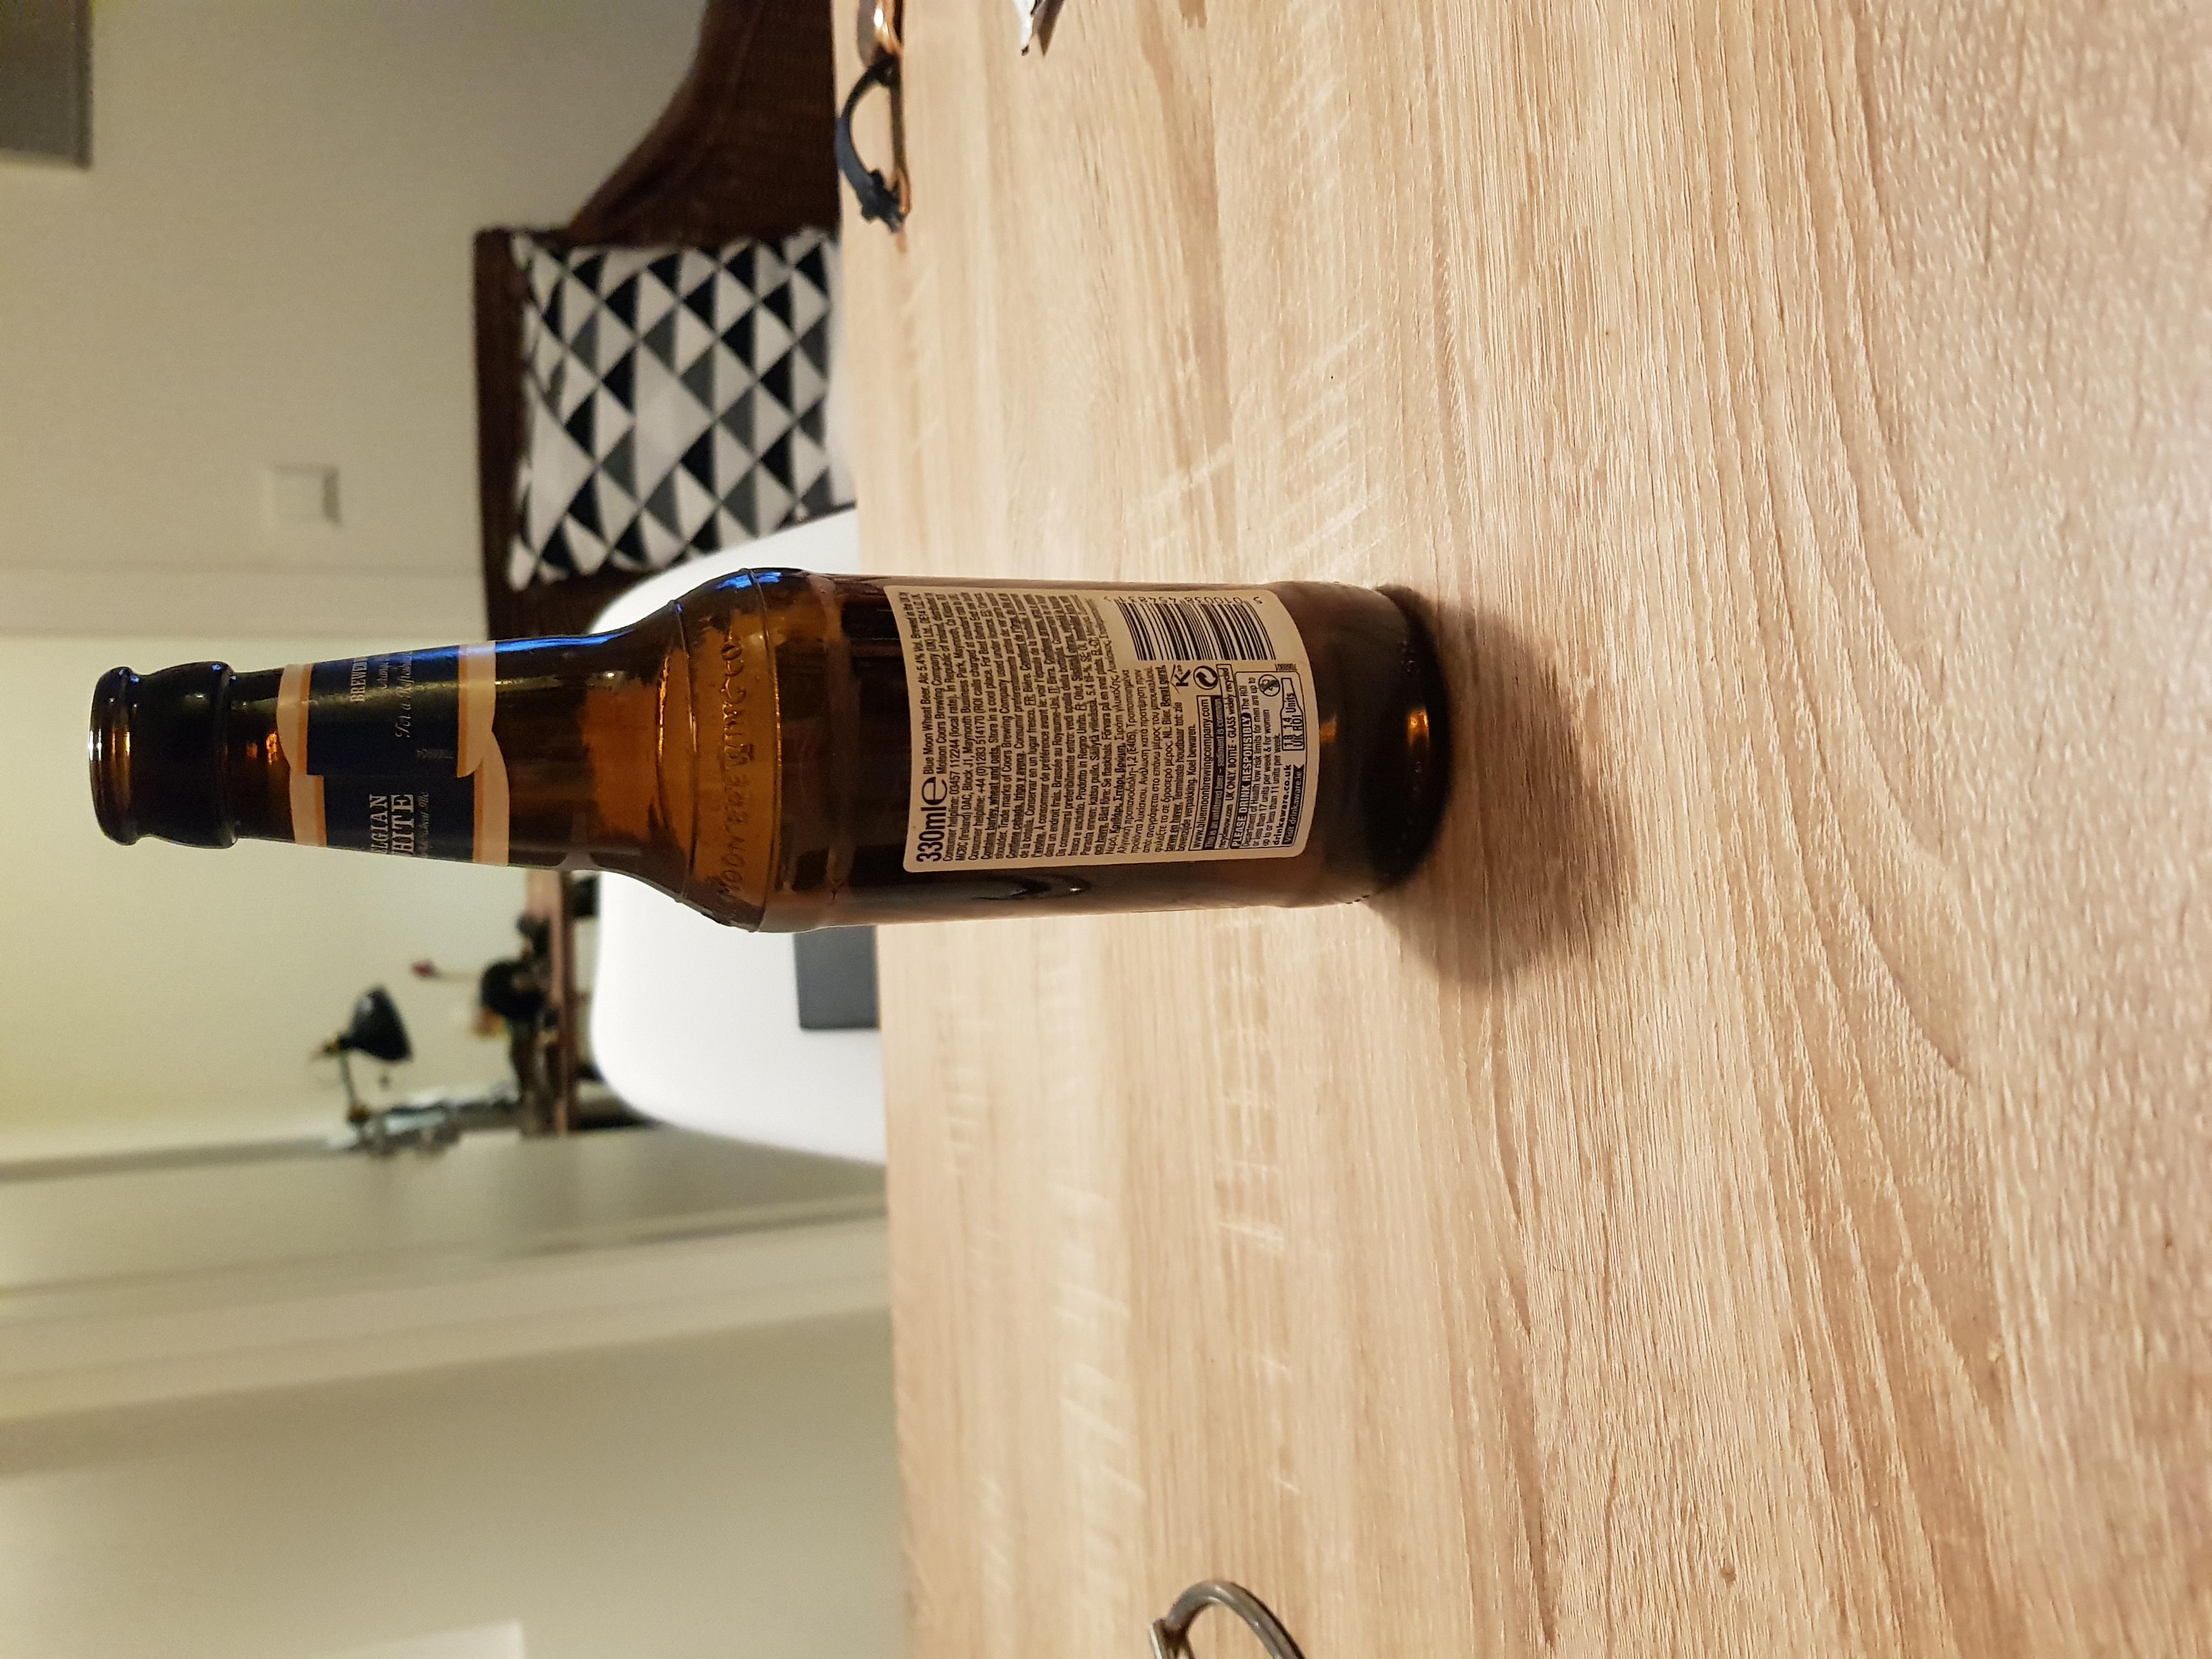bottle: (84, 558, 1472, 941)
